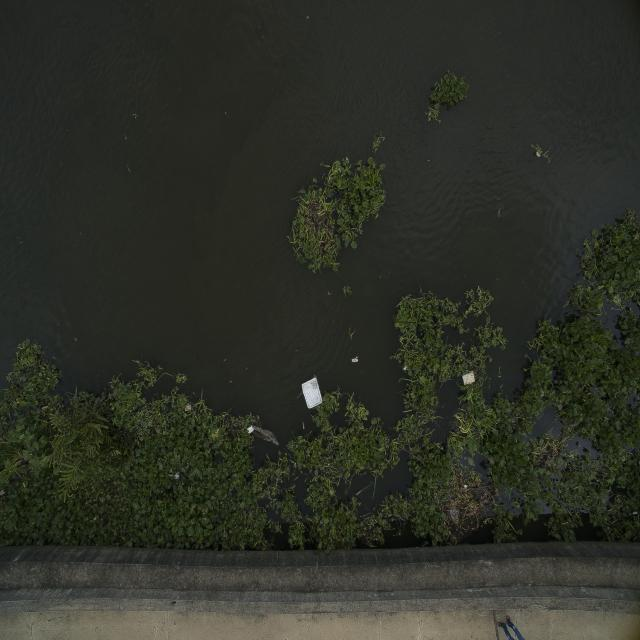debris: (242, 419, 274, 447), (300, 378, 324, 410), (462, 369, 476, 389), (531, 147, 544, 160), (183, 402, 196, 414), (170, 469, 182, 481), (460, 479, 469, 492), (350, 357, 360, 366), (402, 363, 408, 372)
